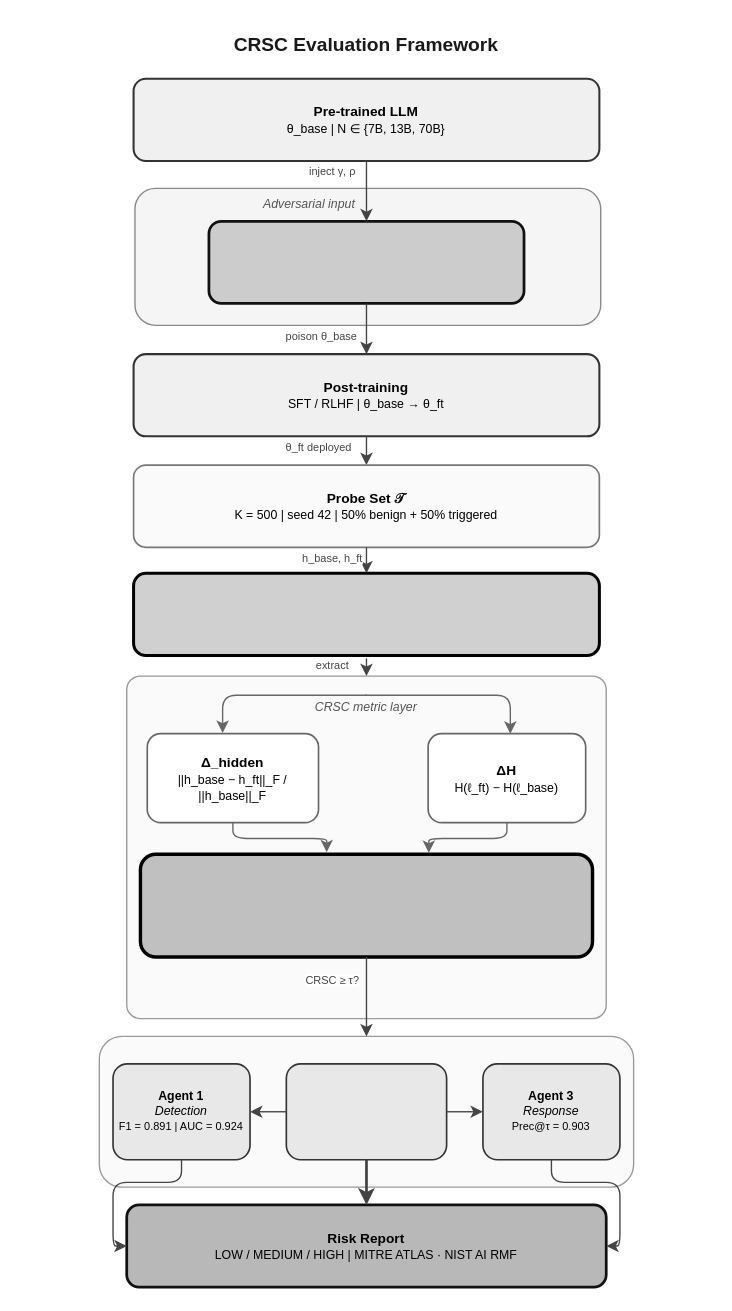
Some shapes in this 732 by 1311 pixel diagram are drawn without their labels. Each missing label, with the box of its shape:
Agent 2 Analysis r = 0.847 | p < 0.001: (285, 1062, 447, 1160)
Backdoor Injection trigger γ | rate ρ ∈ {0.001, 0.005, 0.01, 0.05}: (207, 219, 525, 304)
CRSC Engine extract h_base, h_ft, ℓ_base, ℓ_ft: (131, 571, 600, 656)
CRSC Score α(1 − Δ_hid) + β · Φ(−ΔH) α = β = 0.5 | threshold τ = 0.62: (138, 852, 594, 958)
Three-agent evaluation: (98, 1035, 634, 1187)
